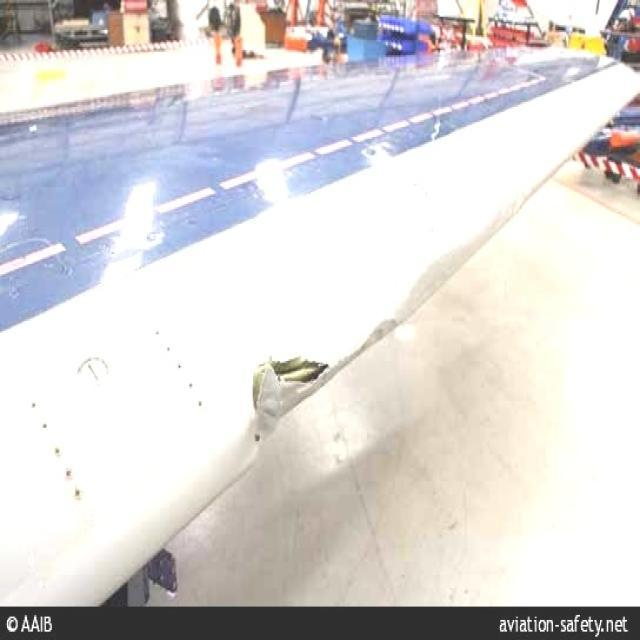crack: (253, 356, 332, 439)
dent: (404, 222, 510, 324), (352, 324, 399, 362)
